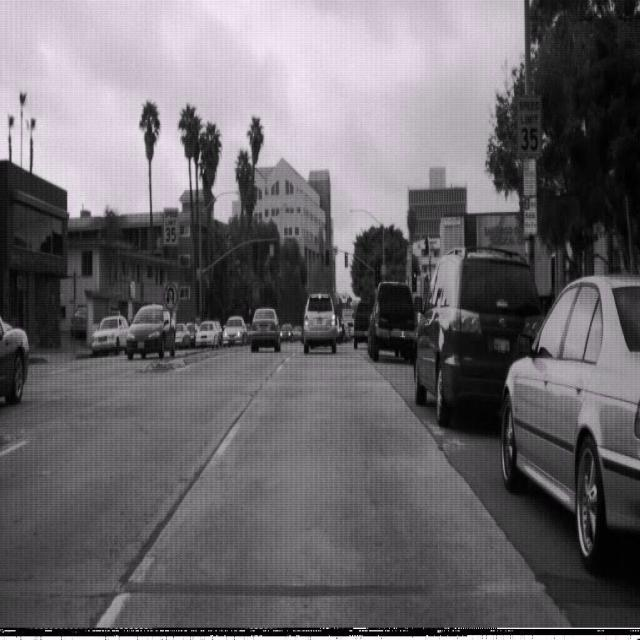speedLimit35: (516, 92, 542, 156), (162, 205, 179, 246)
